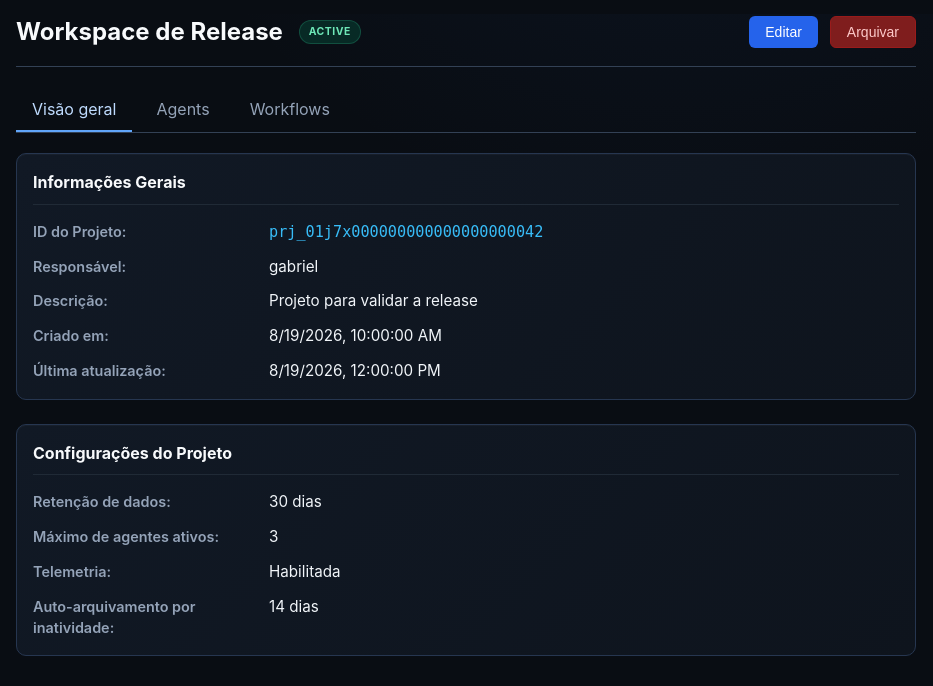
Test: Project Agents workbench › opens the Agents tab and loads agents for the selected project
What coordinates should you click on to do the following:
click the tab "Agents"
I would click on:
 (183, 110)
Its box is [140,87,226,132].
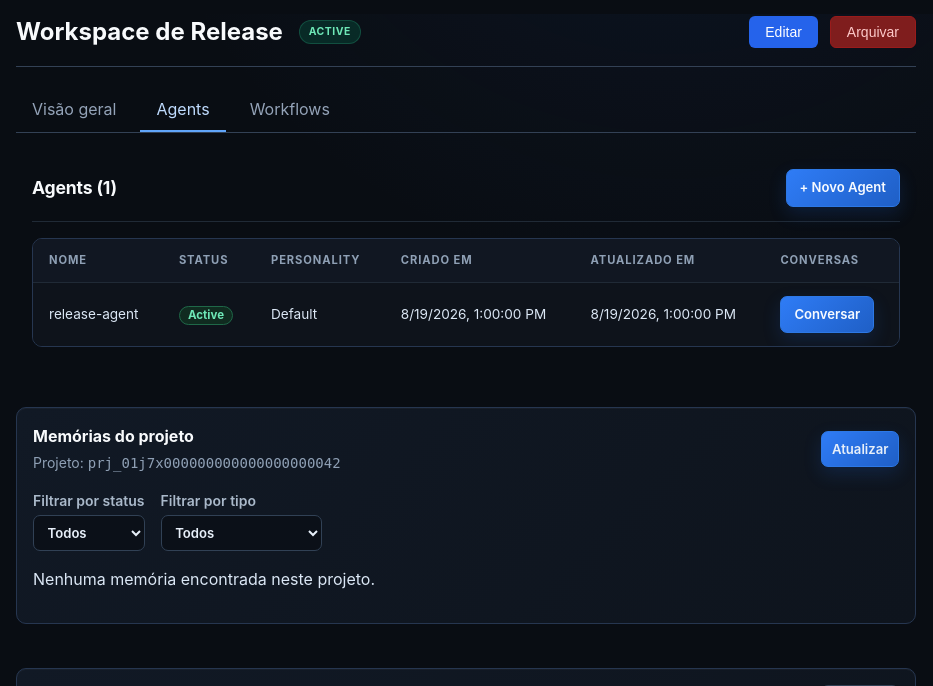
Expected: the text "release-agent" is shown, [33,283,163,346]
